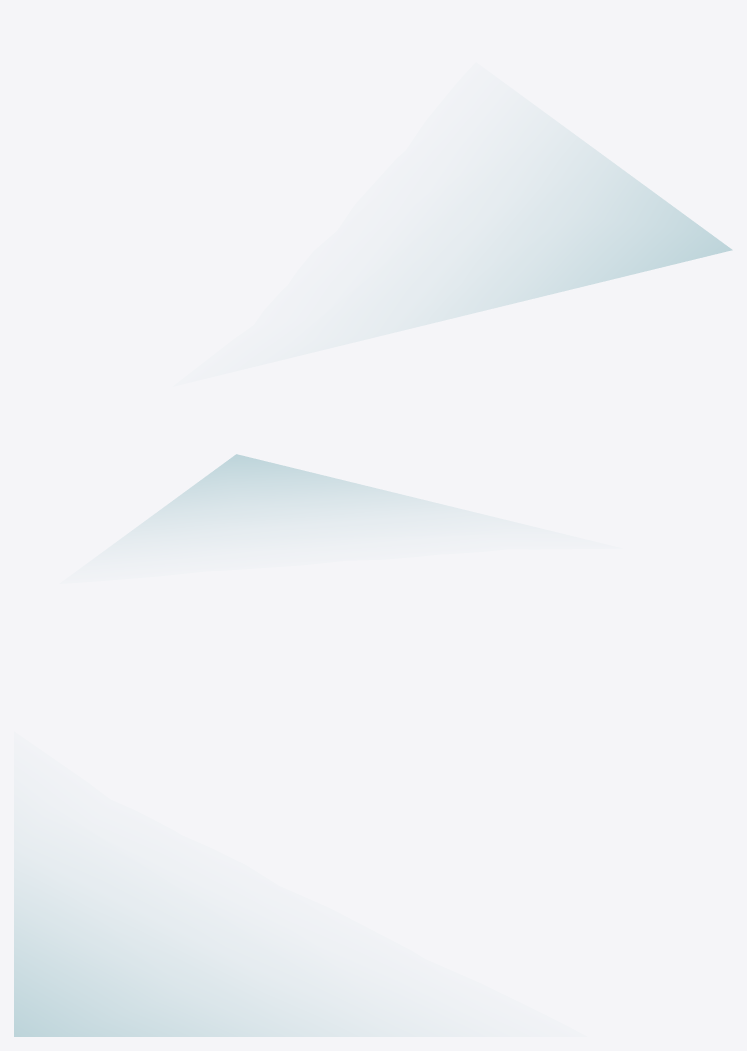
3 renders of one model, top to bottom at view 1: azimuth 30°, elevation 25°; view 2: azimuth 150°, elevation 25°; view 3: azimuth 270°, elevation 25°, orthographic. The views are drawn at different scales.
Parts seen in each view (by area): view 1: city; view 2: city; view 3: city.
Part boxes in pixels (x1=…): city: x1=416, y1=134, x2=732, y2=326; city: x1=127, y1=454, x2=453, y2=534; city: x1=14, y1=864, x2=368, y2=1036.
Size of the model in its own units: 329 by 0 by 255.
